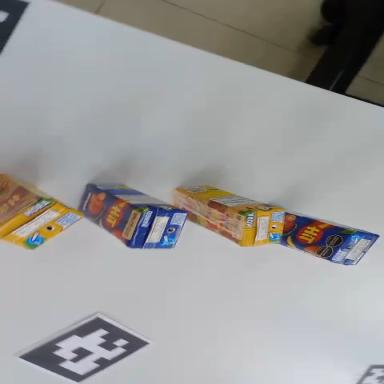HIT-MANGO: (71, 172, 189, 263), (276, 210, 379, 272)
HIT-MORA: (164, 176, 289, 256), (0, 172, 84, 266)
cara_F: (164, 188, 253, 247), (71, 183, 147, 247), (275, 212, 354, 265), (0, 172, 43, 226)
